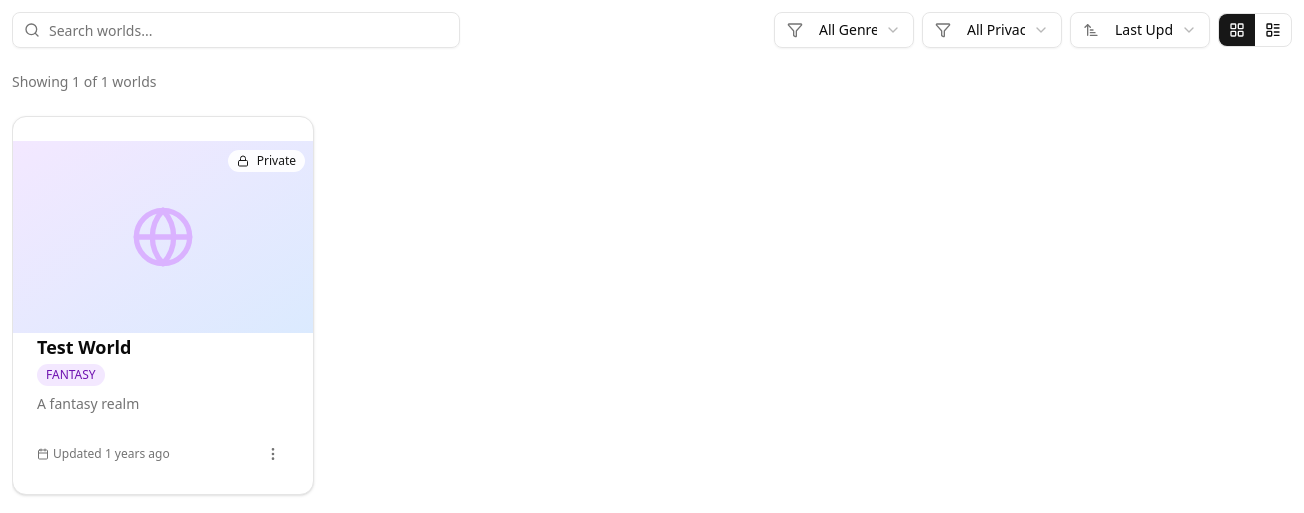
Test: WorldsList › Search › shows no results message when search has no matches
Type "nonexistent" into the field with placeholder "Search worlds..." at (236, 30), box x1=12 y1=12 x2=460 y2=48
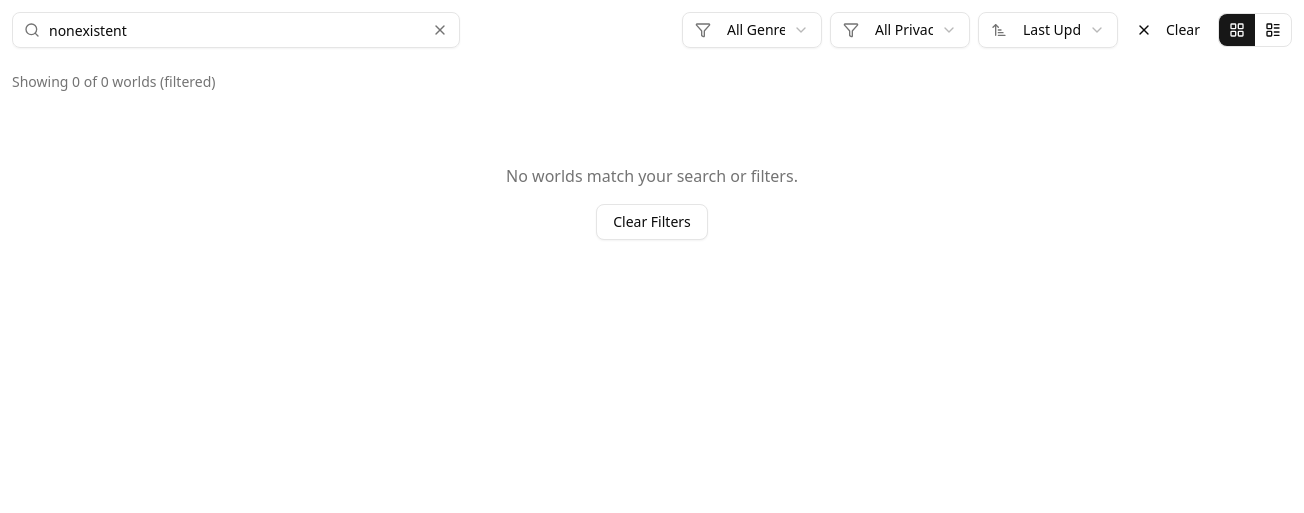
Result: the text "No worlds match your search or filters." is shown at x1=506 y1=165 x2=798 y2=187
